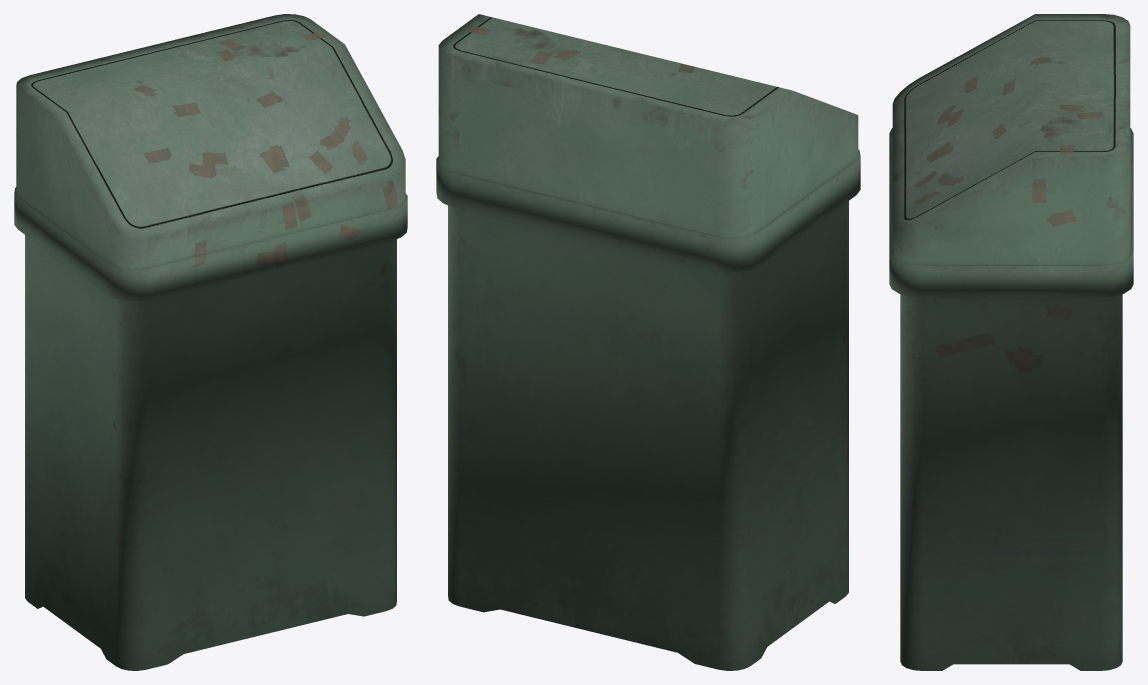
File: plastic_bin2k.glb
3 renders of one model, left to right at view 1: azimuth 30°, elevation 25°; view 2: azimuth 150°, elevation 25°; view 3: azimuth 270°, elevation 25°, orthographic. The views are drawn at different scales.
Visible parts, largest first — view 1: Trash_Bin_low; view 2: Trash_Bin_low; view 3: Trash_Bin_low.
Boxes of the visible parts, x1,y1,x2,y2 form: Trash_Bin_low: [14, 14, 407, 670]; Trash_Bin_low: [436, 14, 860, 670]; Trash_Bin_low: [889, 14, 1133, 670].
Bounding box in the file's own units: 0.415 × 0.6838 × 0.2929.
1 material, 1 textured.
